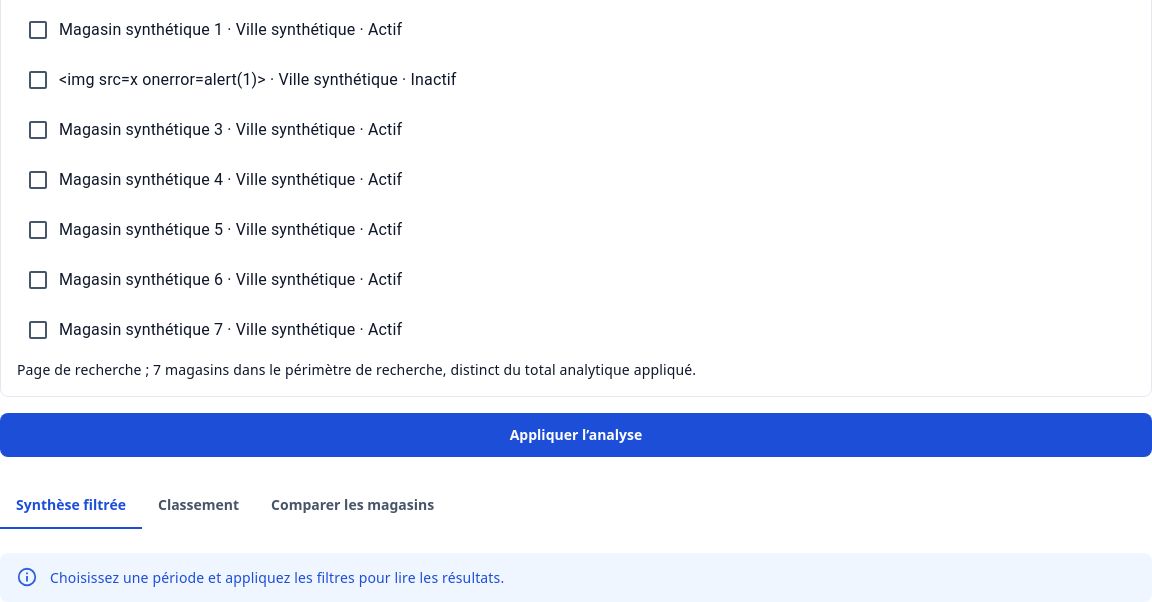
removes every dependent block on 409 without an automatic reload
The image size is (1152, 602).
(page scrolled)
Click the button "Appliquer l’analyse".
click(576, 435)  # box [0, 413, 1151, 457]
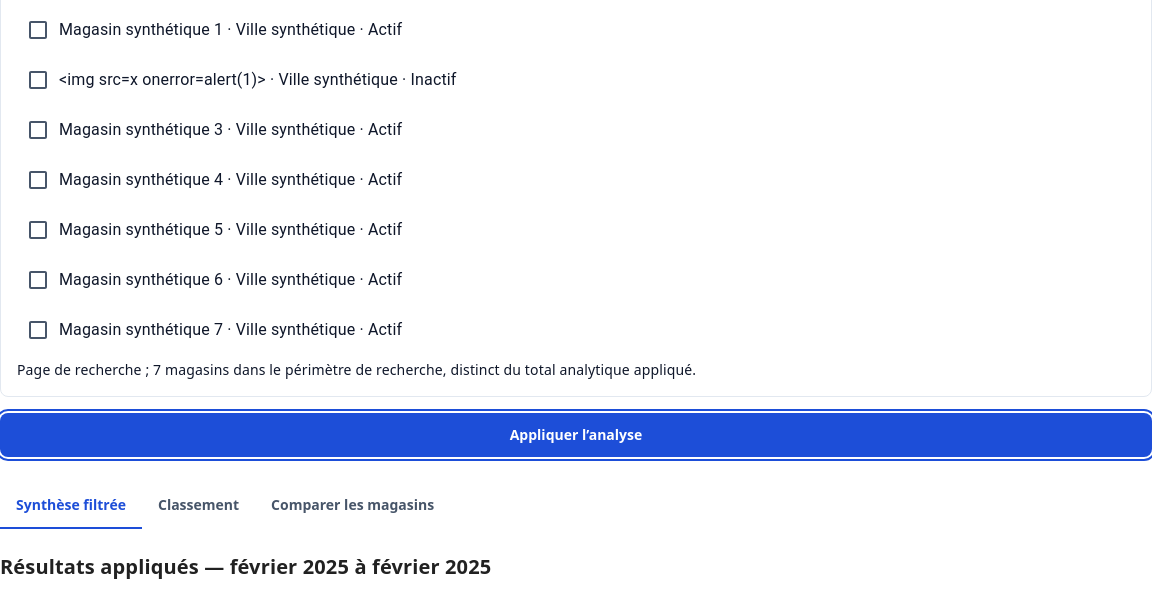
expect the heading "Résultats appliqués — février 2025 à février 2025" is shown: met, box [0, 553, 491, 580]
Click the tab "Classement".
click(199, 505)  # box [142, 481, 255, 529]
(page scrolled)
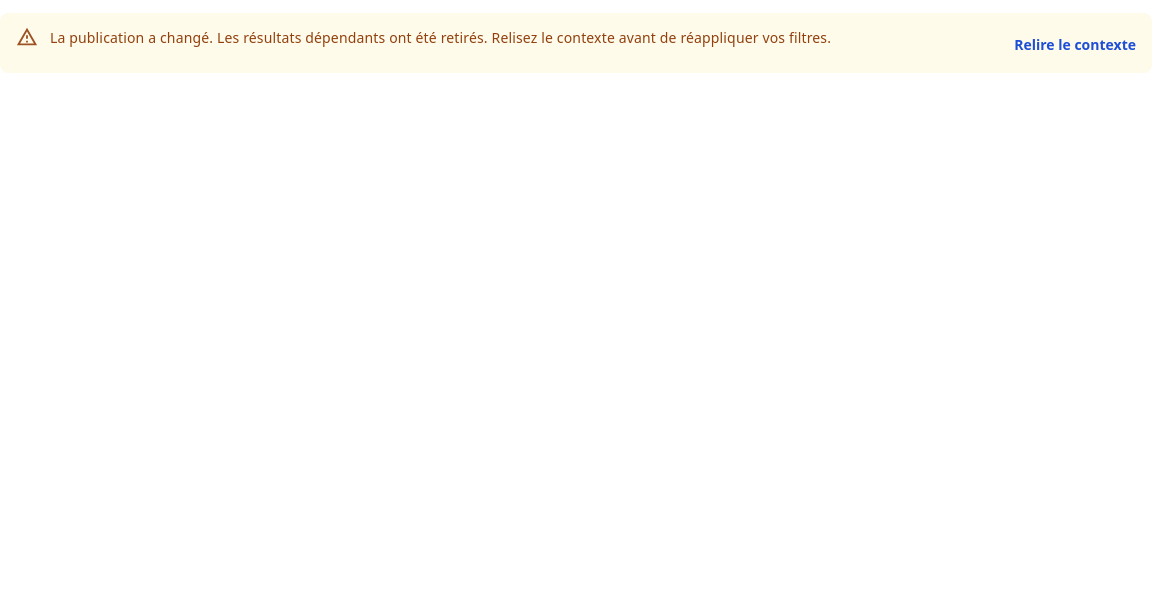
expect the text "La publication a changé" is shown: met, box [50, 28, 831, 47]
expect the heading "Résultats appliqués" is gone: met
